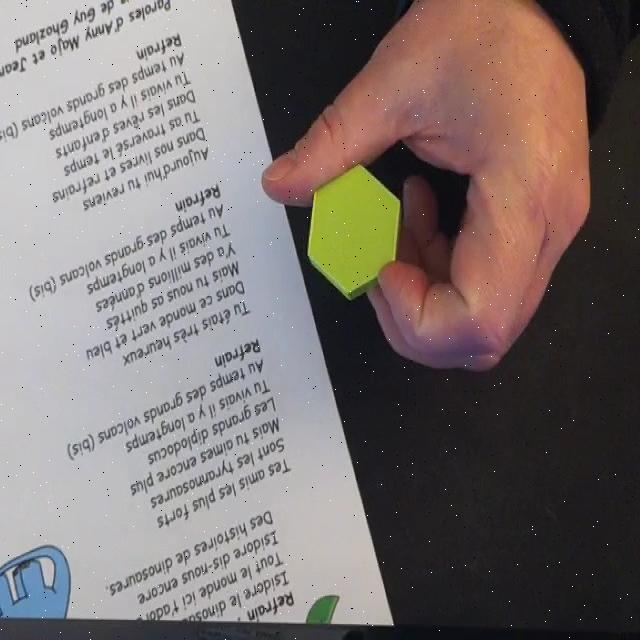hexagon: (304, 161, 403, 300)
